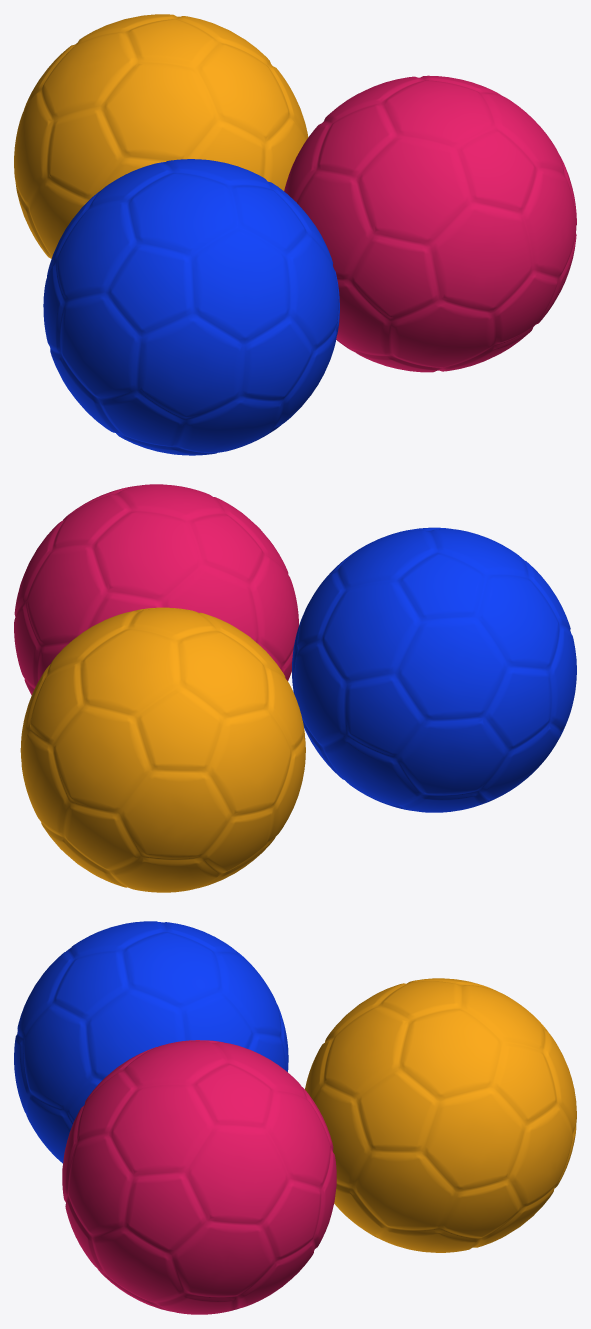
The model's file is SM_Ball_01a.fbx.
3 renders of one model, top to bottom at view 1: azimuth 30°, elevation 25°; view 2: azimuth 150°, elevation 25°; view 3: azimuth 270°, elevation 25°, orthographic. The views are drawn at different scales.
Visible parts, largest first — view 1: SM_Ball_01a002, SM_Ball_01a, SM_Ball_01a001; view 2: SM_Ball_01a001, SM_Ball_01a002, SM_Ball_01a; view 3: SM_Ball_01a, SM_Ball_01a001, SM_Ball_01a002.
Part boxes in pixels (x1,y1,x2,y2): SM_Ball_01a002: [43, 159, 339, 455]; SM_Ball_01a: [284, 75, 576, 372]; SM_Ball_01a001: [14, 14, 308, 258]; SM_Ball_01a001: [20, 607, 305, 892]; SM_Ball_01a002: [292, 527, 576, 812]; SM_Ball_01a: [14, 484, 298, 695]; SM_Ball_01a: [62, 1040, 336, 1314]; SM_Ball_01a001: [305, 978, 576, 1252]; SM_Ball_01a002: [14, 921, 288, 1163].
Bounding box in the file's own units: 42.98 × 21.23 × 43.54.
